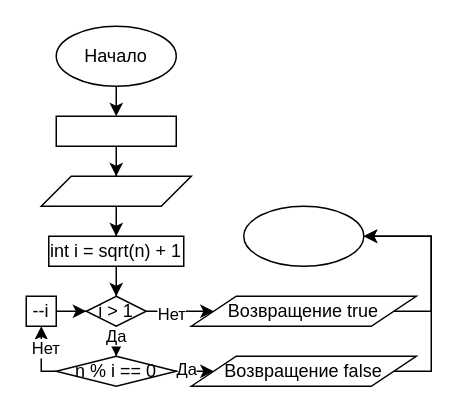
The diagram is 470 pixels wide and 413 high, and some of its shapes have lost their labels. The shapes that lost their labels are listed below. From the top down, each one's centre as x and y in pixels, then its label:
At (115,130): "Натурльное n".
At (115,190): "Получение n".
At (303,235): "Конец".
